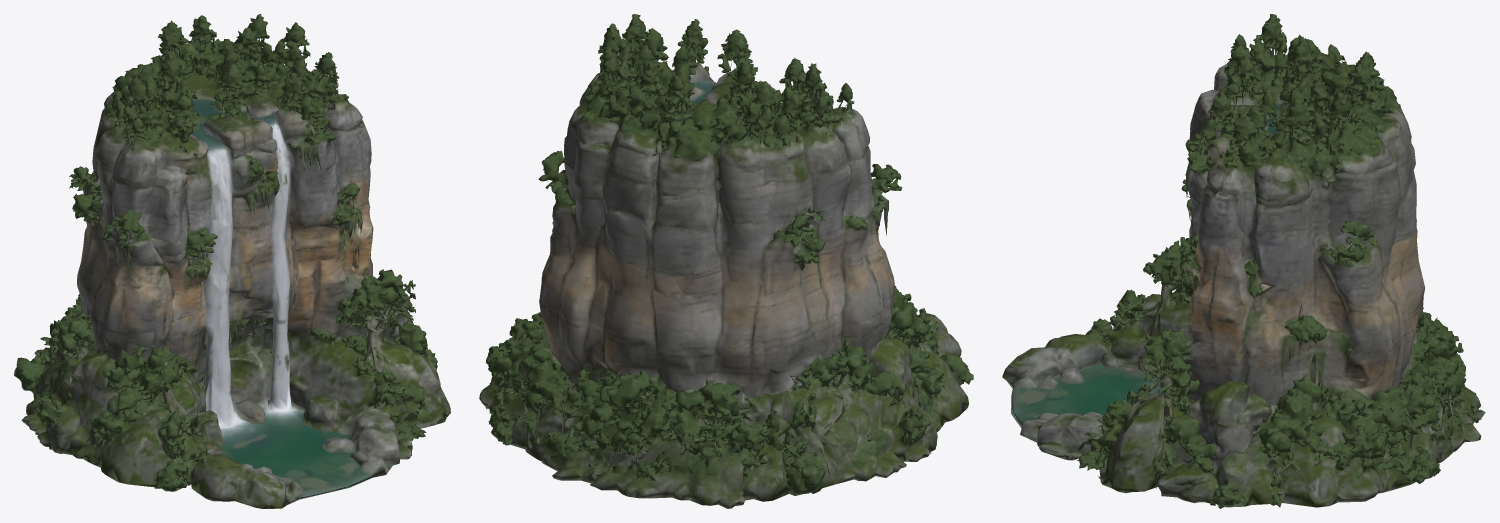
File: av_falls_mid.glb
The picture shows the model from 3 angles, left to right: view 1: azimuth 30°, elevation 25°; view 2: azimuth 150°, elevation 25°; view 3: azimuth 270°, elevation 25°; orthographic projection. The views are drawn at different scales.
Visible parts, largest first — view 1: av_falls; view 2: av_falls; view 3: av_falls.
Part boxes in pixels (x1,y1,x2,y2): av_falls: [14, 14, 450, 508]; av_falls: [479, 14, 973, 508]; av_falls: [1002, 14, 1485, 508].
Bounding box in the file's own units: 1.79 × 1.56 × 1.9.
Materials: 1 (1 with a texture image).
